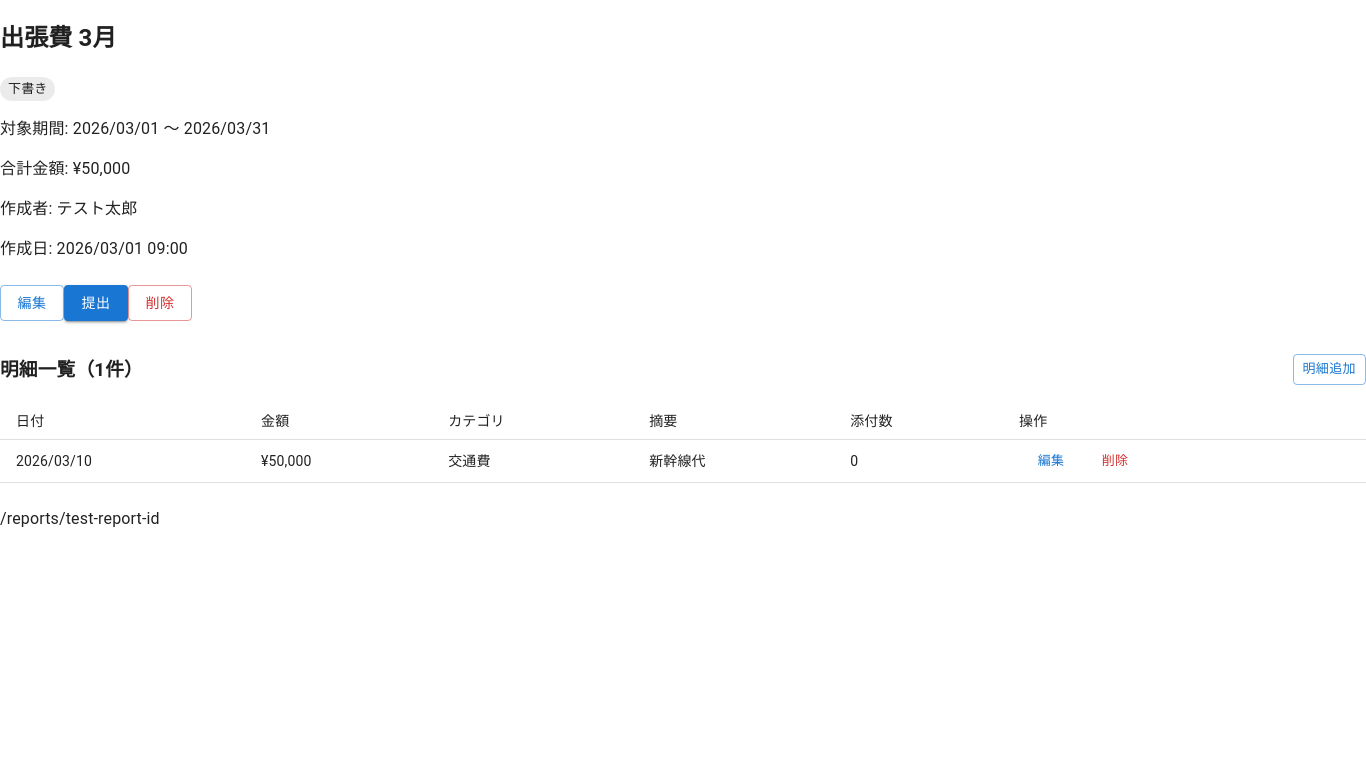
Scenario: ReportDetailPage › RPT-FE-069: 提出ダイアログでキャンセルを選択するとダイアログが閉じミューテーションは実行されない
Click the button "提出" at point(96, 303), box [64,285,128,321]
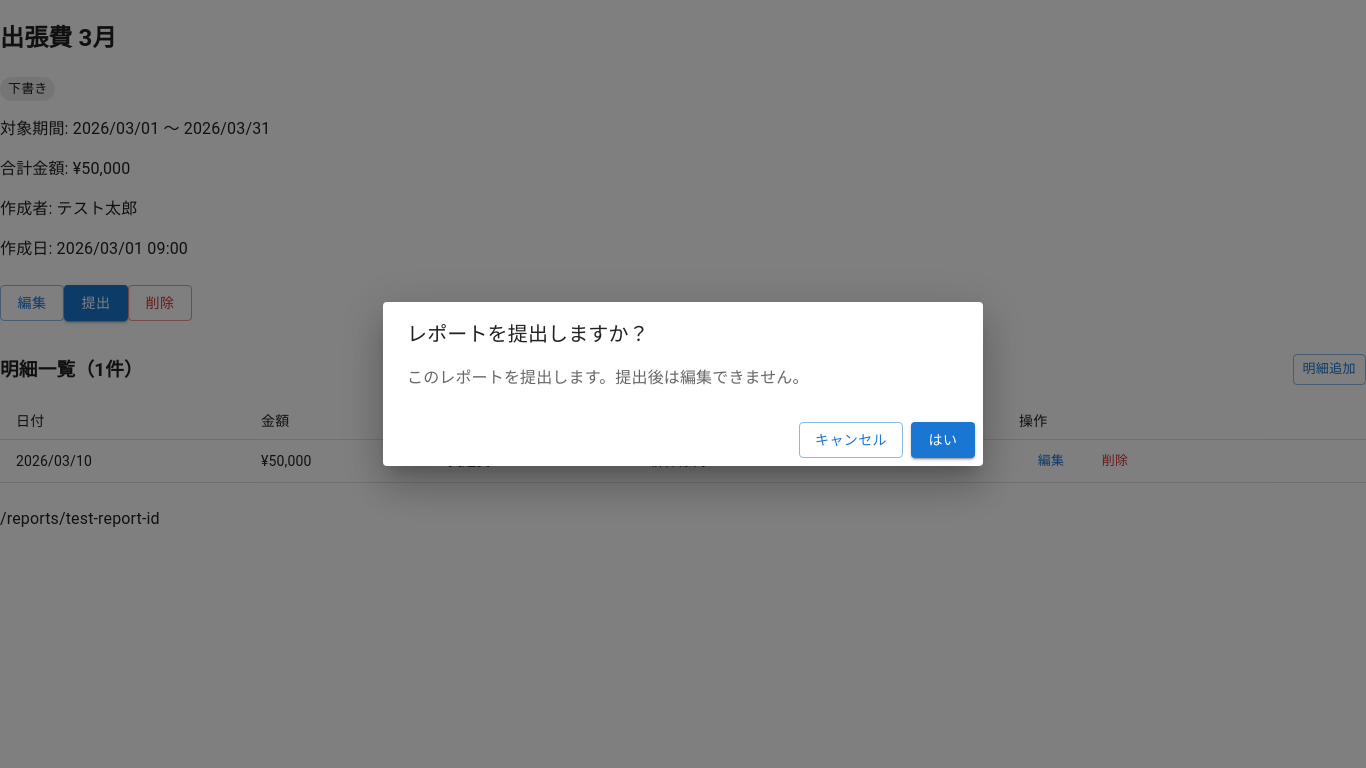
Check: the dialog is shown, box [383,302,983,466]
ダイアログで「キャンセル」ボタンをクリックする。
Click the button "キャンセル" at point(851, 440), box [799,422,903,458]
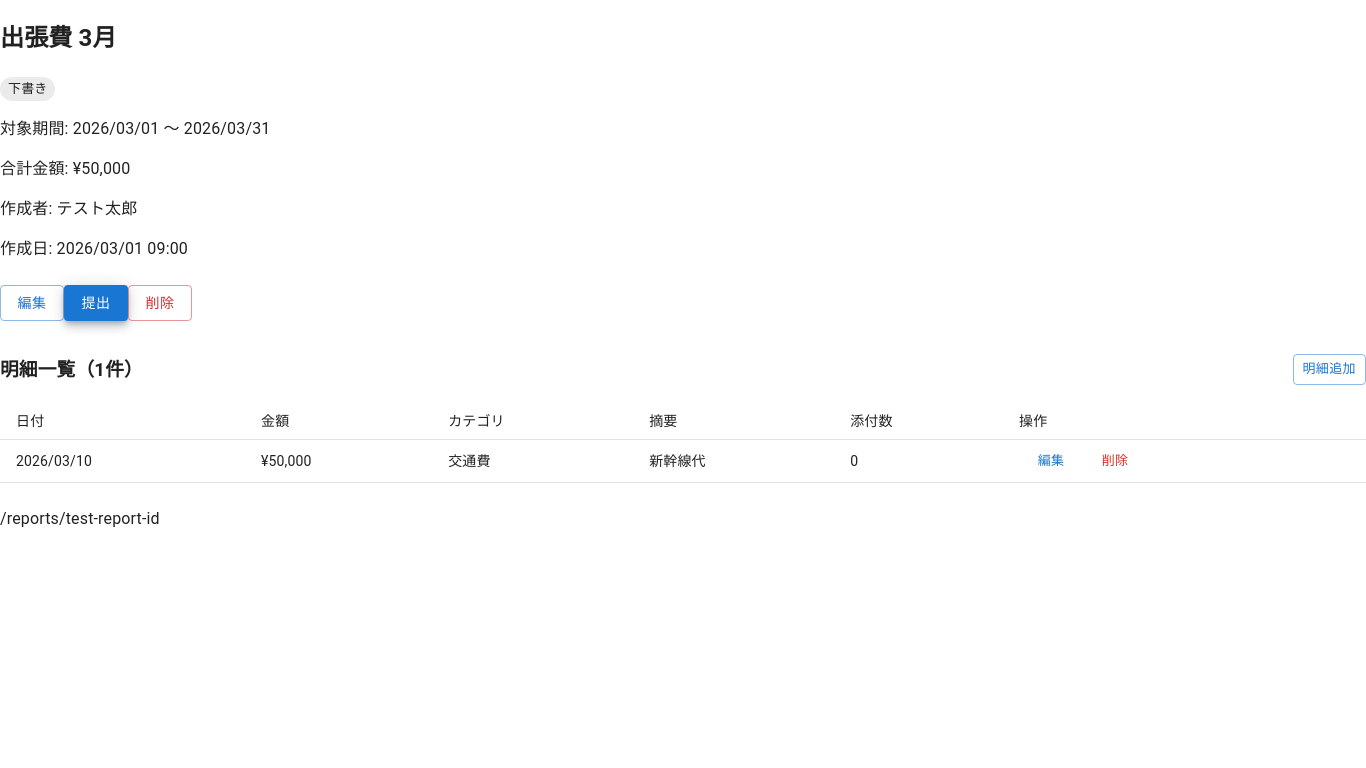
Check: the dialog is gone
